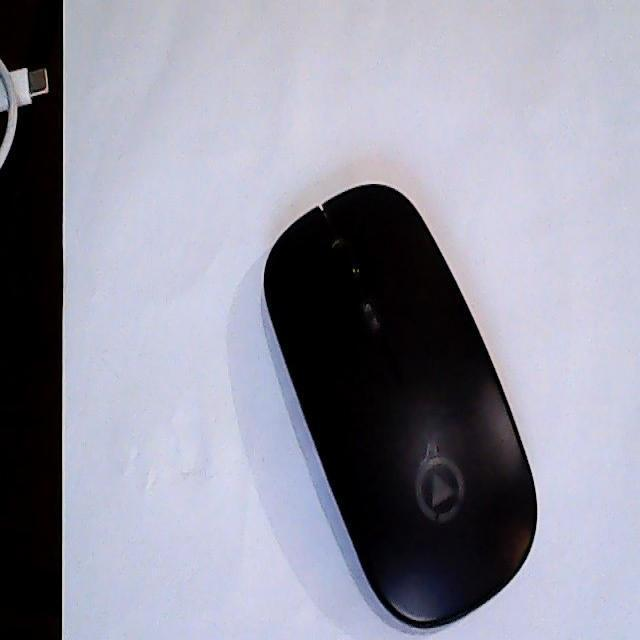Mouse: (264, 180, 540, 634)
